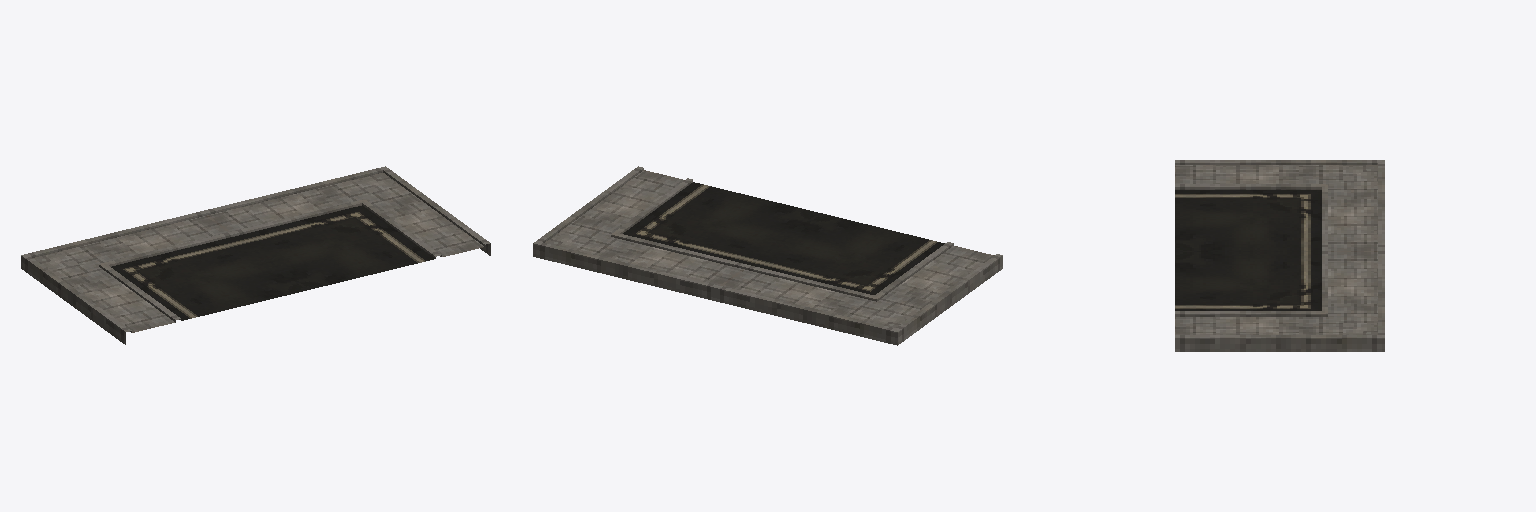
3 renders of one model, left to right at view 1: azimuth 30°, elevation 25°; view 2: azimuth 150°, elevation 25°; view 3: azimuth 270°, elevation 25°, orthographic.
Parts seen in each view (by area): view 1: 7_Road-End-A; view 2: 7_Road-End-A; view 3: 7_Road-End-A.
Boxes of the visible parts, box(x1,y1,x2,y2) form: 7_Road-End-A: box(21, 166, 490, 344); 7_Road-End-A: box(533, 166, 1002, 345); 7_Road-End-A: box(1175, 160, 1384, 351).
Size of the model in its own units: 0.6196 by 0.0219 by 0.3098.
Materials: 1 (1 with a texture image).